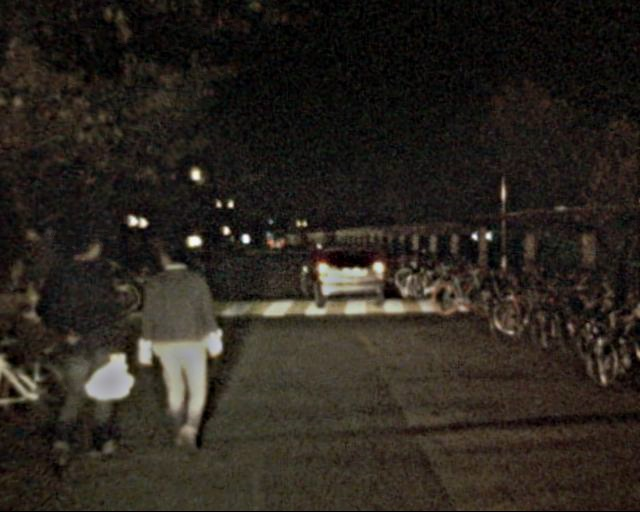person: (53, 219, 121, 468), (151, 230, 225, 448)
